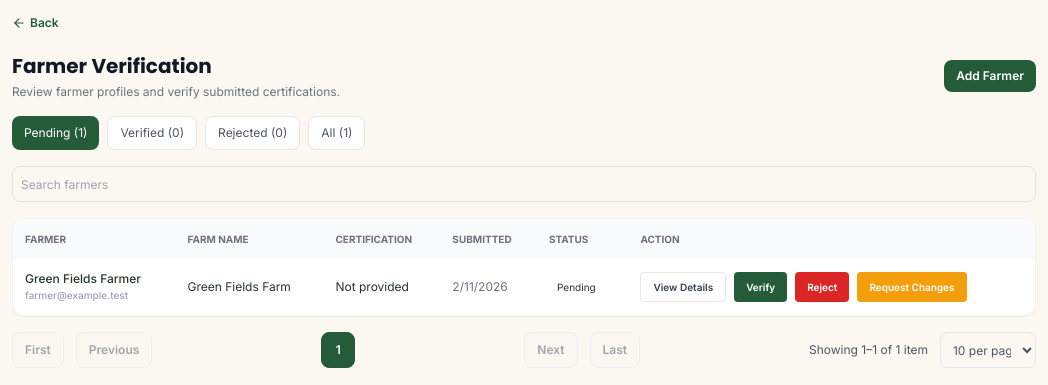
Test: Admin farmer management › Search functionality › clearing search restores the complete farmer list
The image size is (1048, 385).
Expected: the text "Green Fields Farmer" is shown, [25,271,141,286]
Type "Search Result" into the field with placeholder "Search farmers" at x=524, y=184, box [12,166,1036,202]
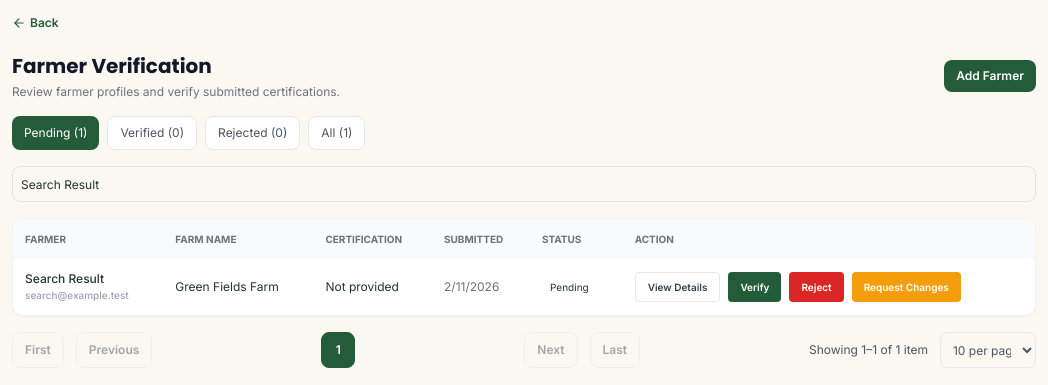
Result: the text "Search Result" is shown at [25,271,104,286]
Clear the field with placeholder "Search farmers" at x=524, y=184, box [12,166,1036,202]
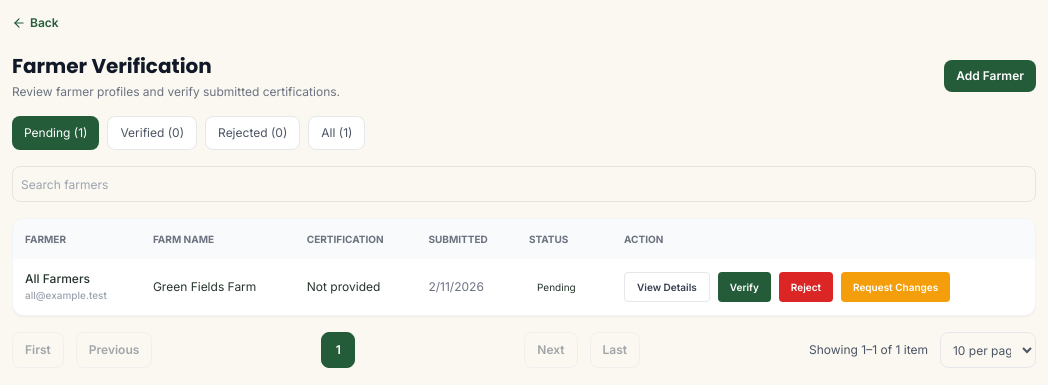
Result: the text "All Farmers" is shown at [25,271,90,286]
